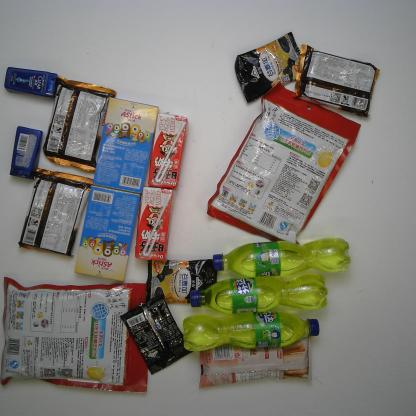Dessert: (42, 76, 117, 172), (17, 168, 95, 258), (291, 42, 382, 119), (73, 185, 142, 283), (198, 335, 315, 392), (93, 96, 160, 195)
Drink: (180, 312, 322, 355), (211, 236, 351, 279), (187, 272, 330, 312)
Instant Drink: (206, 82, 362, 245), (0, 276, 150, 395), (117, 293, 192, 376), (232, 26, 296, 104), (144, 256, 220, 305)
Milk: (145, 109, 188, 190), (133, 184, 174, 265)
Personal Hygiene: (6, 124, 44, 180), (2, 66, 61, 99)
